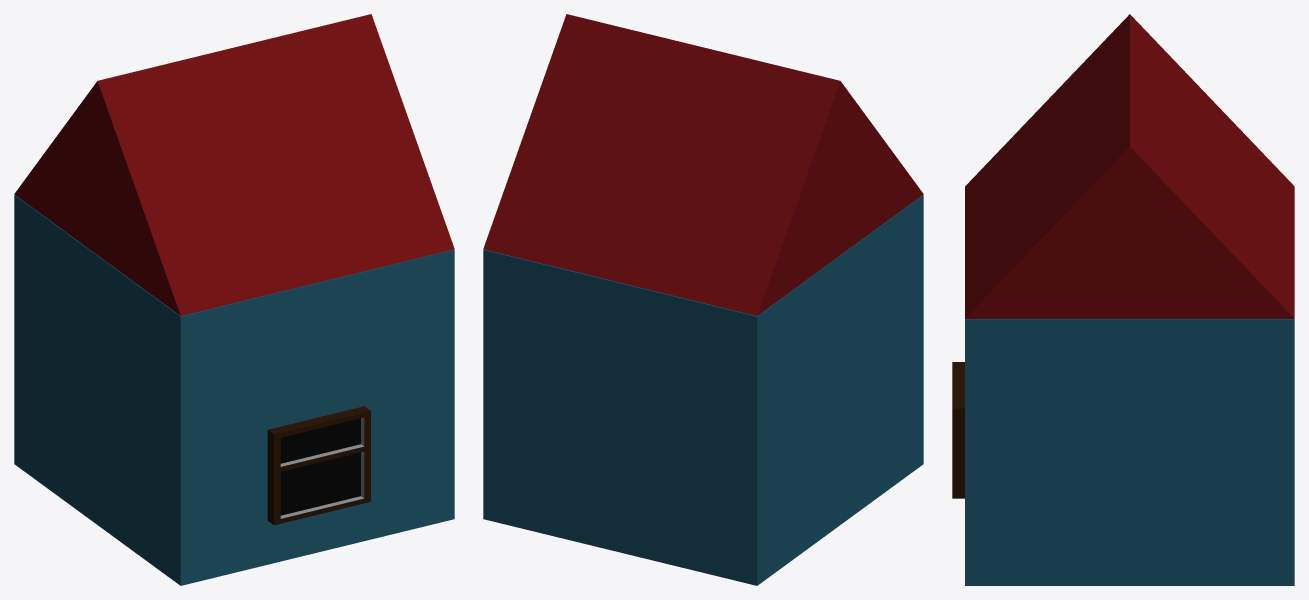
File: buildingPart3.FBX
3 views of the same model, side by side, from view 1: azimuth 30°, elevation 25°; view 2: azimuth 150°, elevation 25°; view 3: azimuth 270°, elevation 25° (orthographic).
Parts seen in each view (by area): view 1: Box003, Box005, Box011; view 2: Box003, Box005; view 3: Box003, Box005, Box011.
Boxes of the visible parts, x1,y1,x2,y2 form: Box003: [14, 195, 454, 585]; Box005: [14, 14, 454, 315]; Box011: [267, 406, 370, 525]; Box003: [483, 195, 923, 585]; Box005: [483, 14, 923, 315]; Box003: [965, 319, 1294, 585]; Box005: [965, 14, 1294, 318]; Box011: [952, 362, 964, 498].
Size of the model in its own units: 42.11 by 65.22 by 46.05.
